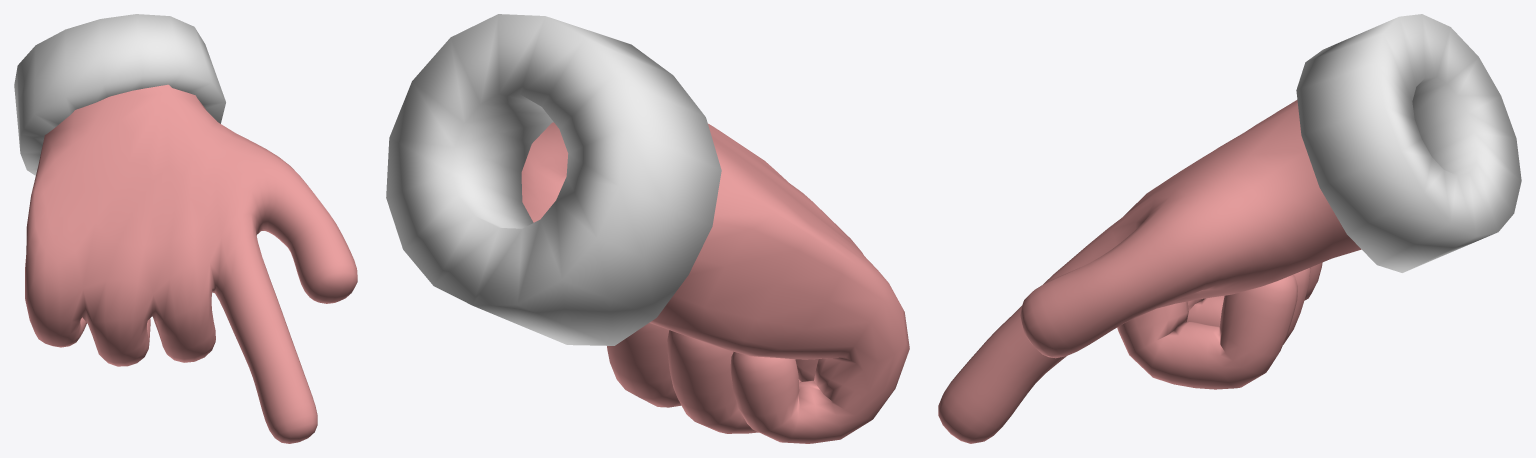
Rendered from Hand.fbx.
The picture shows the model from 3 angles, left to right: view 1: azimuth 30°, elevation 25°; view 2: azimuth 150°, elevation 25°; view 3: azimuth 270°, elevation 25°; orthographic projection. The views are drawn at different scales.
Visible parts, largest first — view 1: Cube.062; view 2: Cube.062; view 3: Cube.062.
Part boxes in pixels (bbox=[...]): Cube.062: bbox=[14, 14, 357, 443]; Cube.062: bbox=[386, 14, 909, 443]; Cube.062: bbox=[938, 14, 1521, 443].
Size of the model in its own units: 11.94 by 13.75 by 17.79.
